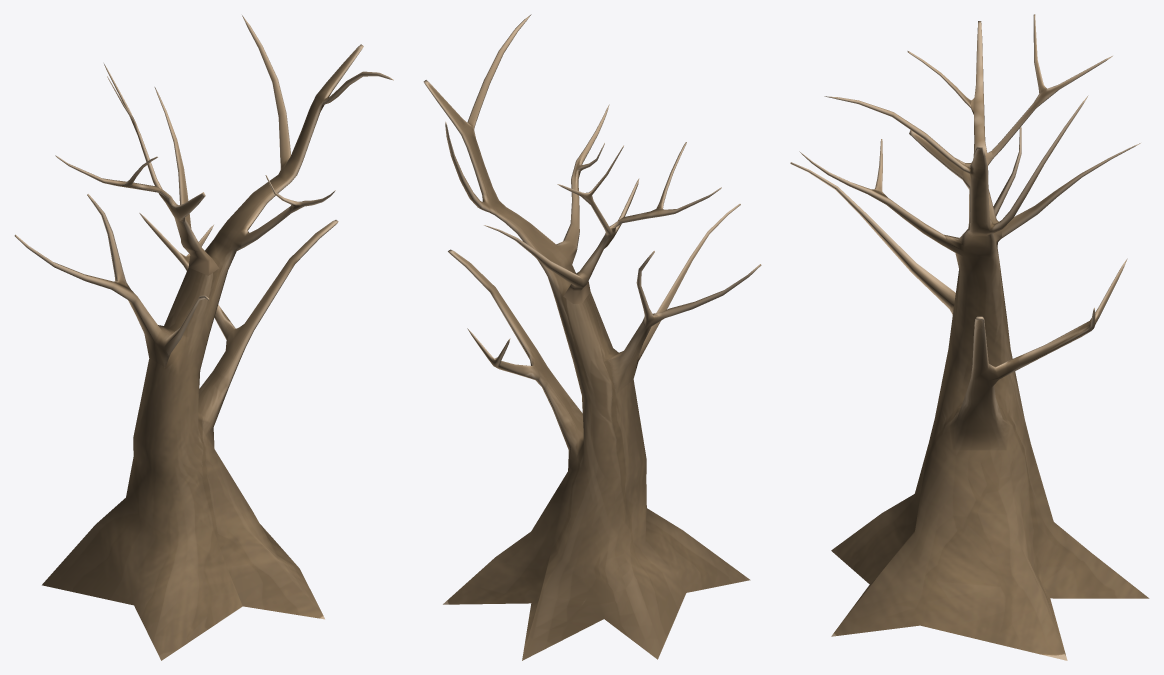
The model's file is Trees_2.fbx.
3 renders of one model, left to right at view 1: azimuth 30°, elevation 25°; view 2: azimuth 150°, elevation 25°; view 3: azimuth 270°, elevation 25°, orthographic. The views are drawn at different scales.
Visible parts, largest first — view 1: Pablo_Low_Tree2; view 2: Pablo_Low_Tree2; view 3: Pablo_Low_Tree2.
Part boxes in pixels (bbox=[...]): Pablo_Low_Tree2: bbox=[14, 15, 393, 660]; Pablo_Low_Tree2: bbox=[423, 14, 761, 660]; Pablo_Low_Tree2: bbox=[790, 14, 1149, 660].
Bounding box in the file's own units: 2470 × 3582 × 2019.
